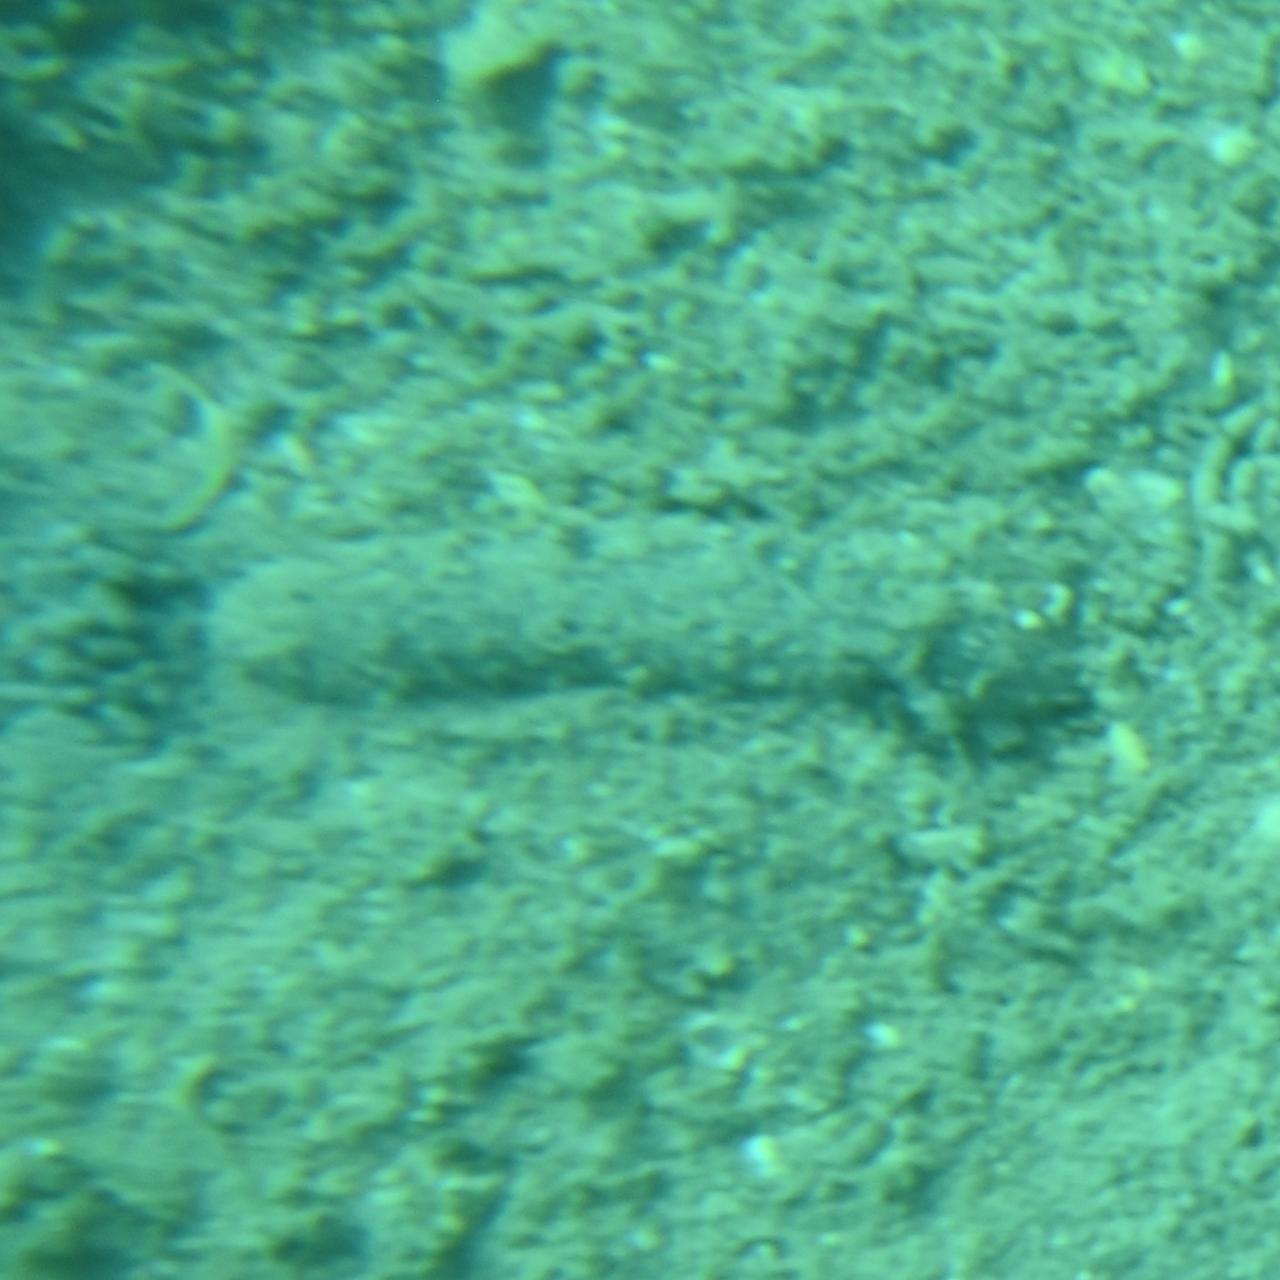Holothuria tubulosa: (166, 504, 1114, 776)
